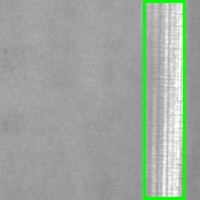scratches: (144, 1, 184, 198)
